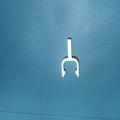u-shape: (60, 37, 80, 79)
